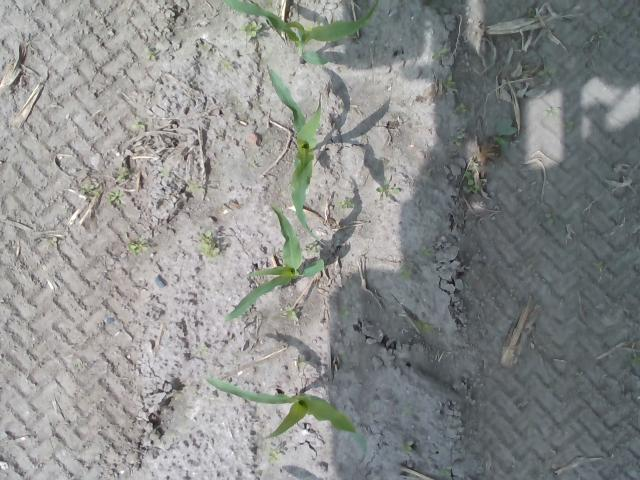Maize: (225, 208, 325, 320), (270, 64, 328, 250), (222, 0, 380, 66), (206, 378, 356, 441)
Weeds: (198, 232, 220, 257), (494, 125, 515, 151), (462, 169, 479, 194), (238, 19, 258, 38), (126, 241, 148, 257), (447, 126, 466, 144), (430, 48, 450, 61), (442, 74, 458, 90), (416, 319, 432, 334), (374, 185, 400, 194), (80, 182, 98, 194), (306, 241, 320, 256), (108, 191, 122, 206), (338, 305, 351, 320), (538, 66, 554, 78), (399, 440, 414, 452), (115, 167, 128, 179), (454, 103, 468, 113), (286, 310, 298, 320), (132, 121, 146, 129)
